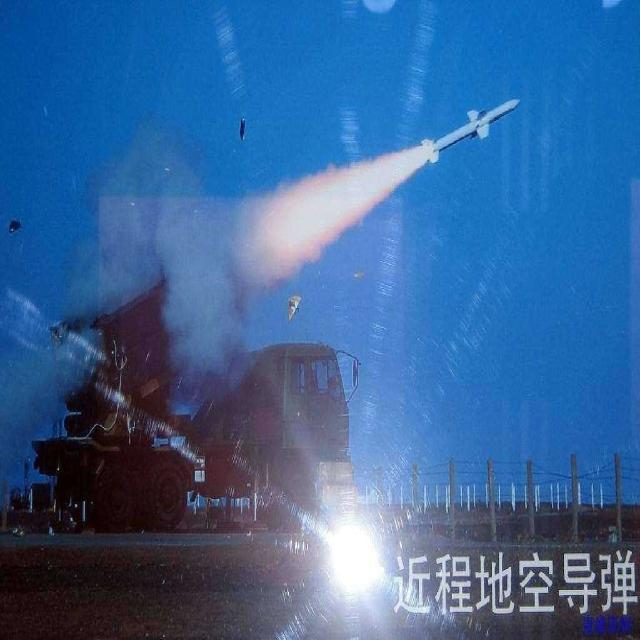missile: (420, 100, 520, 152)
